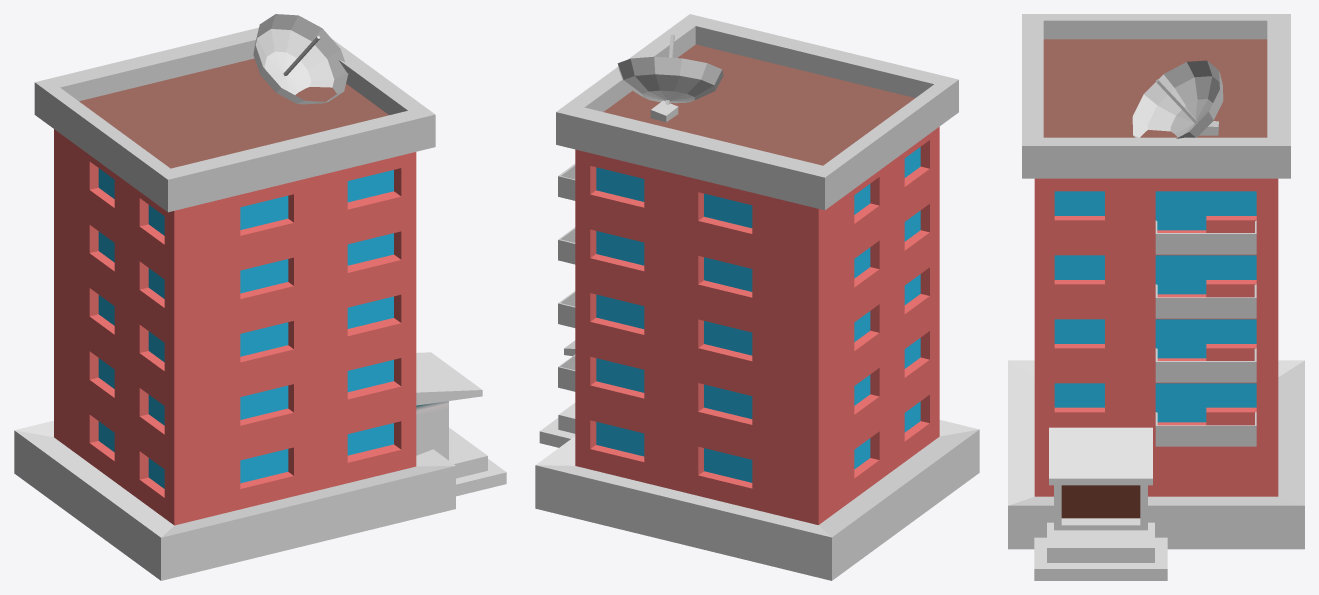
File: house_tall_a.fbx
3 renders of one model, left to right at view 1: azimuth 30°, elevation 25°; view 2: azimuth 150°, elevation 25°; view 3: azimuth 270°, elevation 25°, orthographic.
Visible parts, largest first — view 1: House_2; view 2: House_2; view 3: House_2.
Boxes of the visible parts, x1=… form: House_2: x1=14, y1=14, x2=506, y2=580; House_2: x1=535, y1=14, x2=979, y2=580; House_2: x1=1008, y1=14, x2=1304, y2=580.
Size of the model in its own units: 715 by 833 by 507.
1 material, 1 textured.
